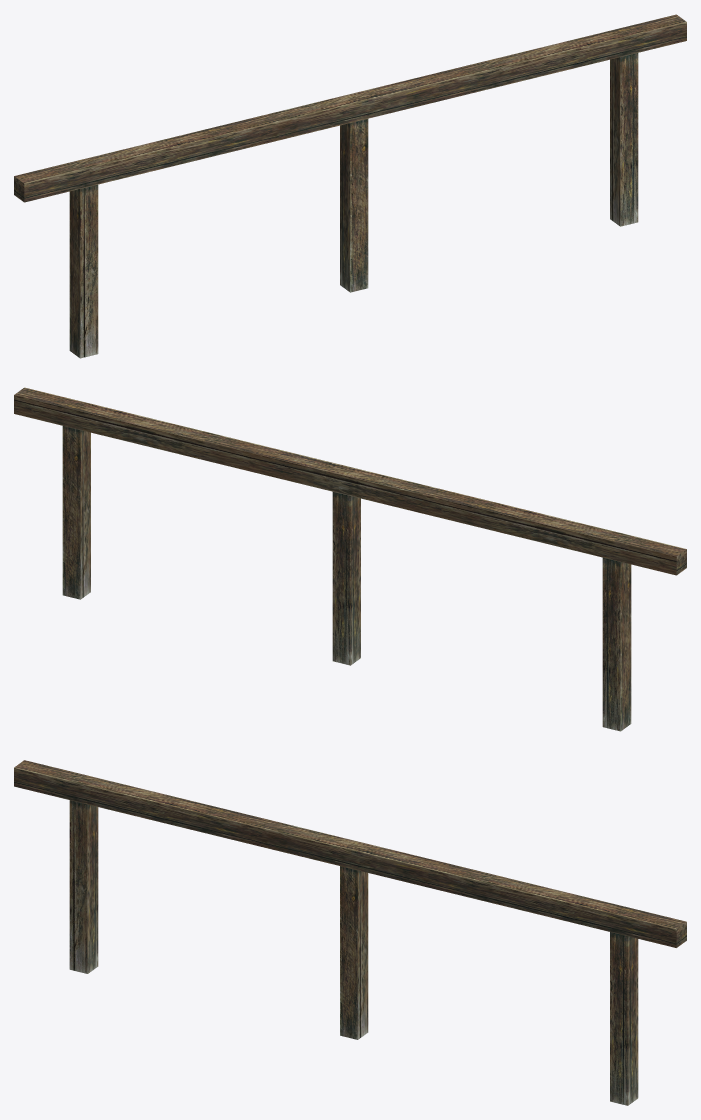
Rendered from konovaz1.glb.
3 renders of one model, top to bottom at view 1: azimuth 30°, elevation 25°; view 2: azimuth 150°, elevation 25°; view 3: azimuth 330°, elevation 25°, orthographic.
Parts seen in each view (by area): view 1: konovaz1; view 2: konovaz1; view 3: konovaz1.
Boxes of the visible parts, x1,y1,x2,y2 form: konovaz1: [14, 14, 686, 358]; konovaz1: [14, 387, 686, 731]; konovaz1: [14, 760, 686, 1105].
Size of the model in its own units: 3.68 by 0.9999 by 0.1001.
Materials: 2 (2 with a texture image).
